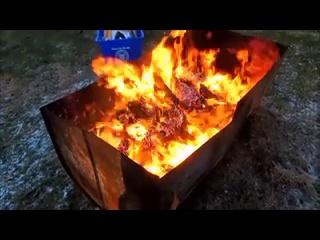Fire: (126, 70, 220, 146)
